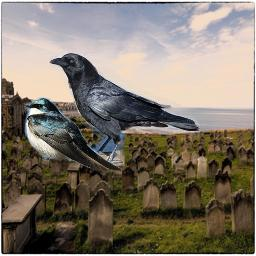Crow: (49, 53, 200, 166)
Swallow: (24, 97, 122, 174)
